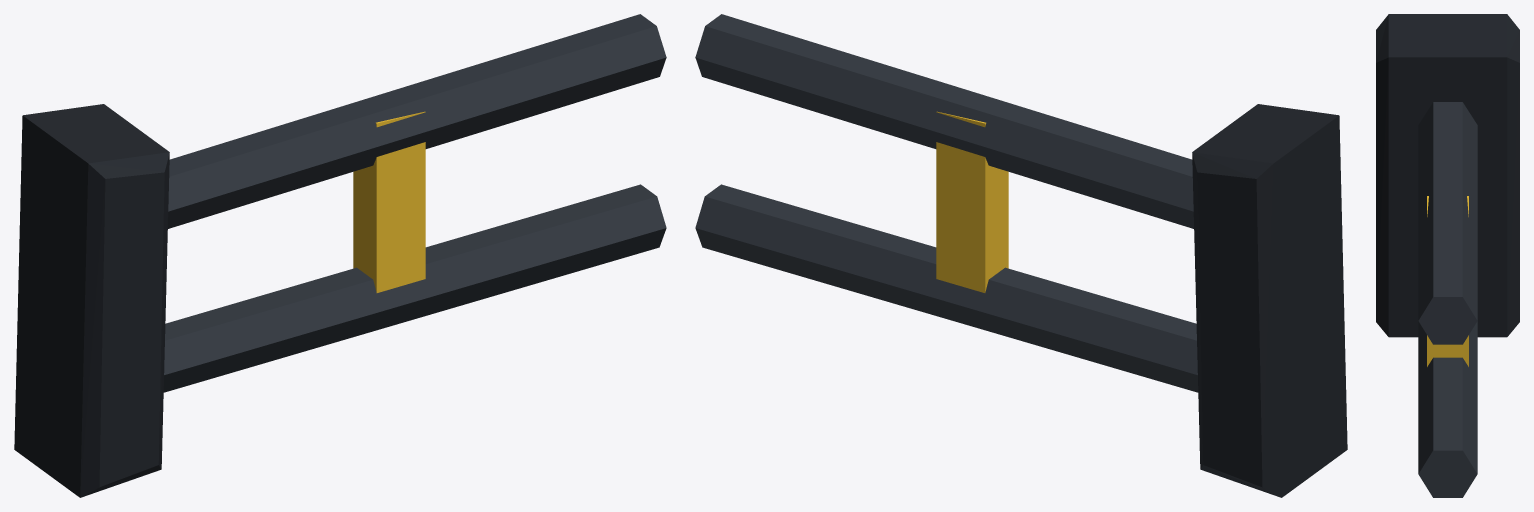
File: stock_minimal.glb
The picture shows the model from 3 angles, left to right: view 1: azimuth 30°, elevation 25°; view 2: azimuth 150°, elevation 25°; view 3: azimuth 270°, elevation 25°; orthographic projection. The views are drawn at different scales.
Parts seen in each view (by area): view 1: stock_minimal; view 2: stock_minimal; view 3: stock_minimal.
Part boxes in pixels (x1,y1,x2,y2): stock_minimal: [14, 14, 666, 497]; stock_minimal: [695, 14, 1347, 497]; stock_minimal: [1376, 14, 1519, 497].
Size of the model in its own units: 0.1484 by 0.078 by 0.034.
